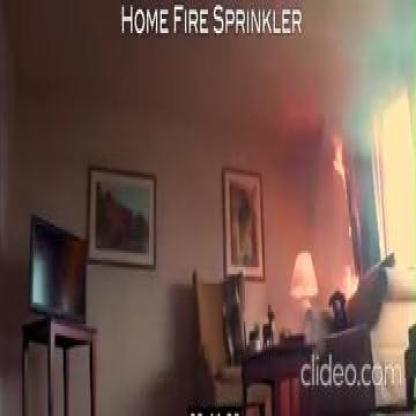fire: (328, 126, 350, 210), (335, 260, 363, 300)
